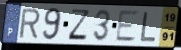3: (92, 9, 112, 43)
9: (42, 6, 64, 42)
E: (114, 10, 141, 43)
L: (139, 11, 158, 43)
R: (18, 8, 42, 40)
Z: (66, 8, 91, 42)
